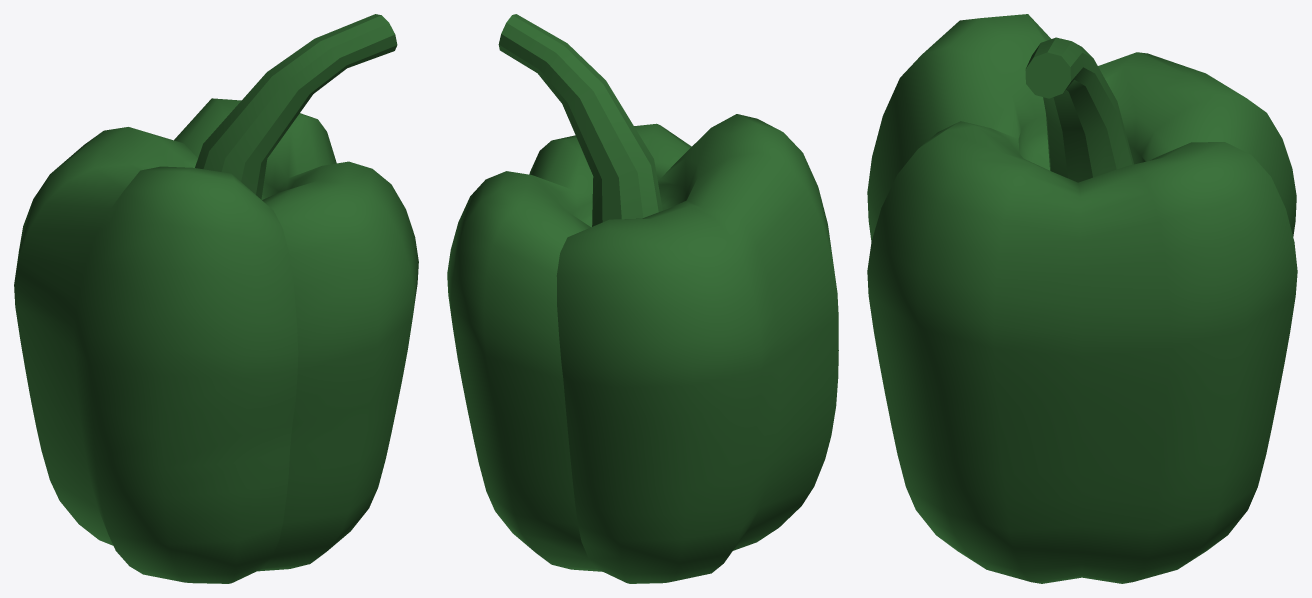
The model's file is bell_pepper.fbx.
3 renders of one model, left to right at view 1: azimuth 30°, elevation 25°; view 2: azimuth 150°, elevation 25°; view 3: azimuth 270°, elevation 25°, orthographic. The views are drawn at different scales.
Parts seen in each view (by area): view 1: pCylinder2; view 2: pCylinder2; view 3: pCylinder2.
Part boxes in pixels (x1,y1,x2,y2): pCylinder2: (14, 14, 418, 583); pCylinder2: (447, 14, 838, 583); pCylinder2: (867, 14, 1297, 583).
Size of the model in its own units: 9.55 by 14.11 by 9.53.
